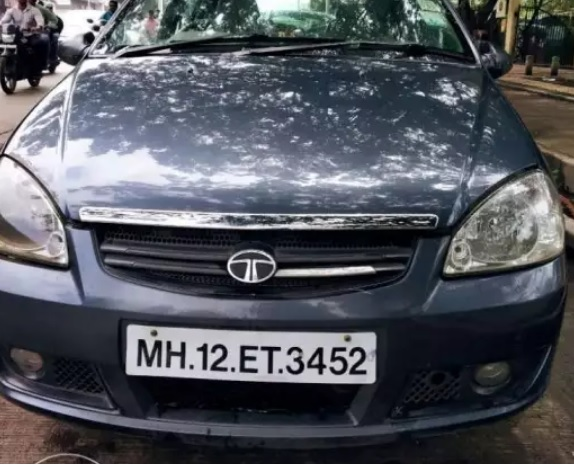licenseplate: (120, 317, 382, 385)
